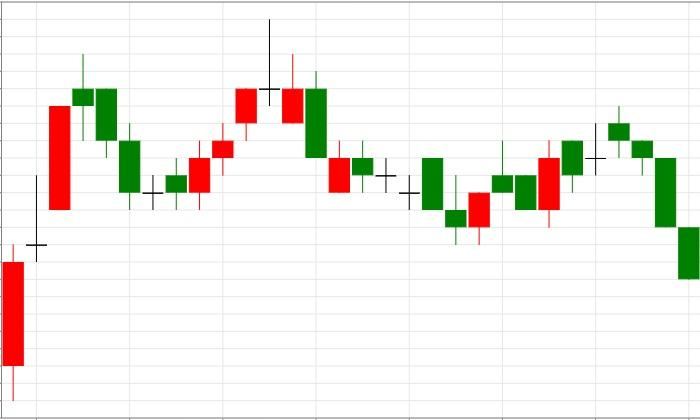bullish_engulfing_rise: (72, 54, 209, 211)
